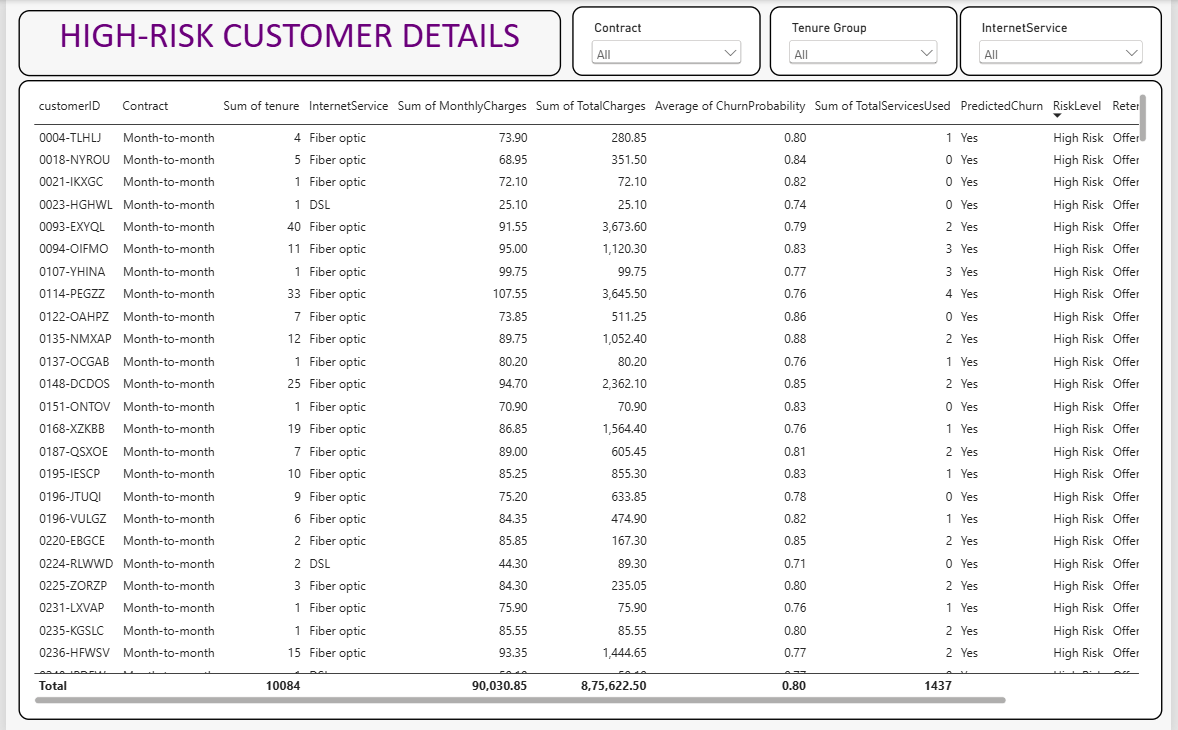

The dashboard page shown, as its layout file describes it:
{"tool":"powerbi","page":{"name":"High-Risk Customer Details","canvas":[1350,850],"ordinal":2},"visuals":[{"type":"tableEx","fields":{"Values":["ChurnPredictions.customerID","ChurnPredictions.Contract","Sum(ChurnPredictions.tenure)","ChurnPredictions.InternetService","Sum(ChurnPredictions.MonthlyCharges)","Sum(ChurnPredictions.TotalCharges)","Avg(ChurnPredictions.ChurnProbability)","Sum(ChurnPredictions.TotalServicesUsed)","ChurnPredictions.PredictedChurn","ChurnPredictions.RiskLevel","ChurnPredictions.RetentionStrategy"]},"box":[14.5,92.7,1325.4,741.7],"z":0},{"type":"textbox","box":[14.5,11.6,628.7,76.8],"z":1},{"type":"slicer","fields":{"Values":["ChurnPredictions.Contract"]},"box":[656.2,7.2,218.7,81.1],"z":2},{"type":"slicer","fields":{"Values":["ChurnPredictions.Tenure Group"]},"box":[885.1,7.2,217.3,81.1],"z":3},{"type":"slicer","fields":{"Values":["ChurnPredictions.InternetService"]},"box":[1105.2,7.2,234.7,81.1],"z":4}]}

Visuals, with their boxes in screenshot pixels (x1, y1, x2, y2), scaled from the page's 1350x850 canvas onto the 1178x730 screenshot:
tableEx - ChurnPredictions.customerID x ChurnPredictions.Contract: 13:80:1169:717
textbox: 13:10:561:76
slicer - ChurnPredictions.Contract: 573:6:763:76
slicer - ChurnPredictions.Tenure Group: 772:6:962:76
slicer - ChurnPredictions.InternetService: 964:6:1169:76
